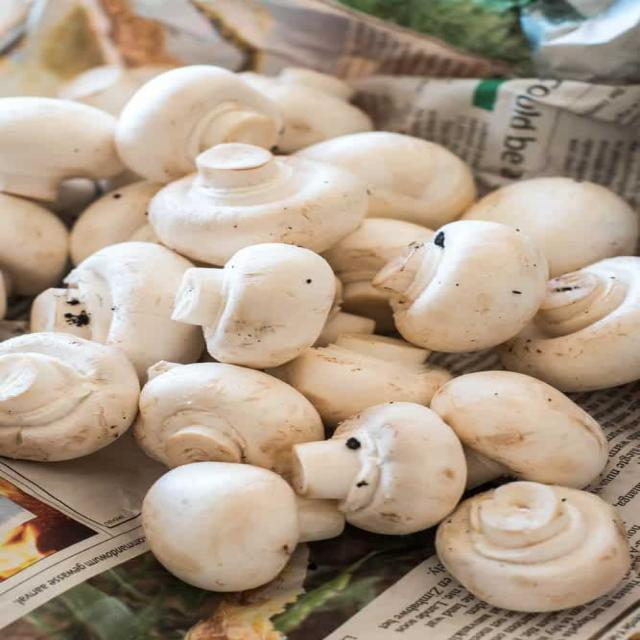champignon mushrooms: (149, 144, 367, 265), (143, 462, 343, 591), (436, 482, 630, 611), (31, 242, 202, 379), (293, 402, 466, 535), (374, 221, 547, 352), (136, 363, 324, 476), (430, 371, 607, 488), (173, 244, 335, 368), (117, 66, 282, 182), (501, 257, 639, 391), (0, 333, 140, 461), (463, 177, 639, 277), (297, 132, 475, 228), (270, 334, 450, 426), (0, 98, 123, 200), (324, 218, 433, 332), (240, 68, 373, 153), (0, 194, 68, 318), (71, 182, 163, 264), (59, 65, 171, 117), (314, 278, 375, 346), (45, 178, 100, 226), (314, 311, 375, 346)
